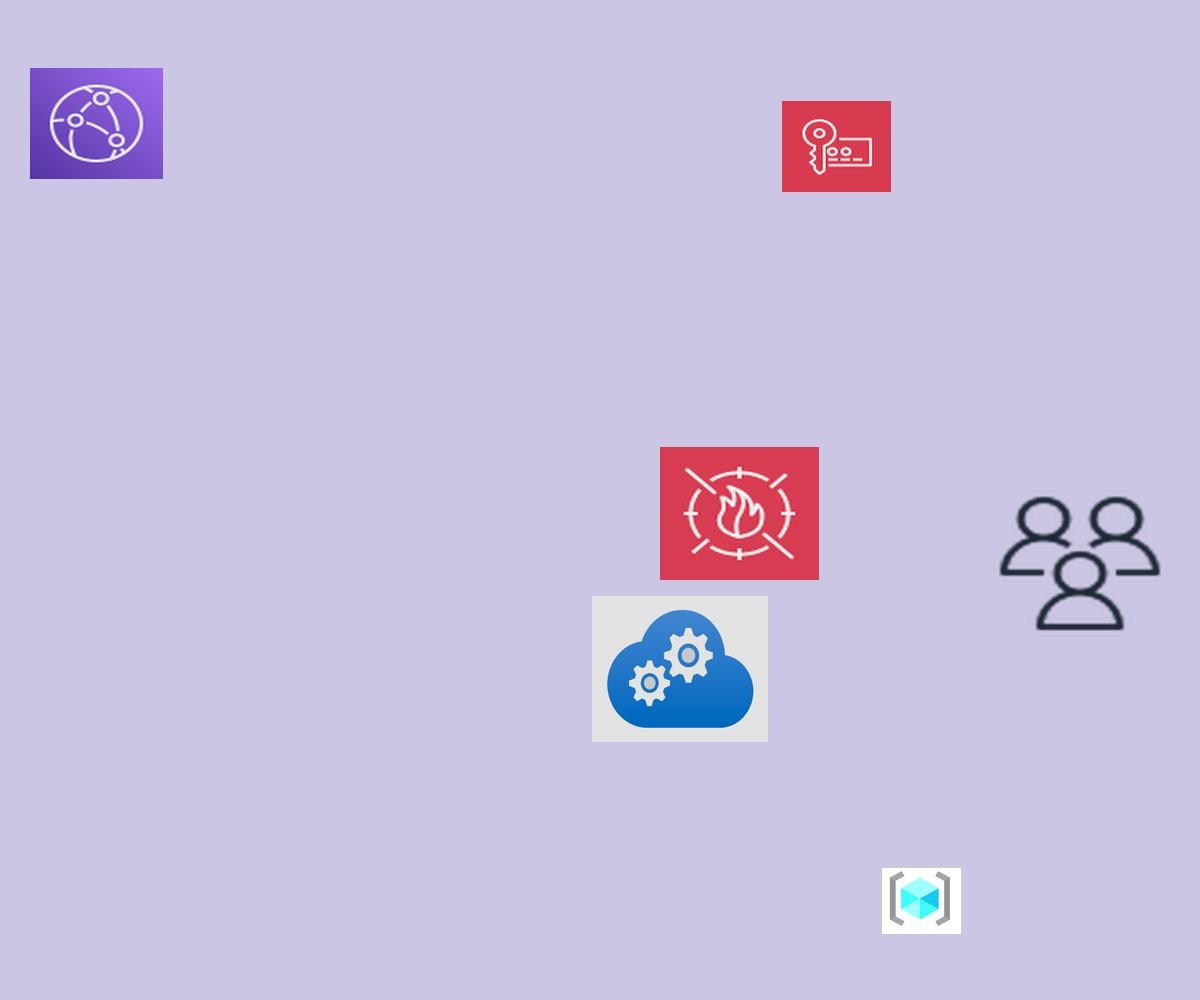AWS-CloudFront: (30, 68, 163, 179)
AWS-Key-Management-Service: (782, 101, 891, 192)
AWS-Res_Users: (993, 491, 1167, 636)
AWS-WAF: (660, 447, 819, 580)
Azure_cloud_services: (592, 596, 768, 742)
Azure_resource_group: (882, 868, 961, 934)
